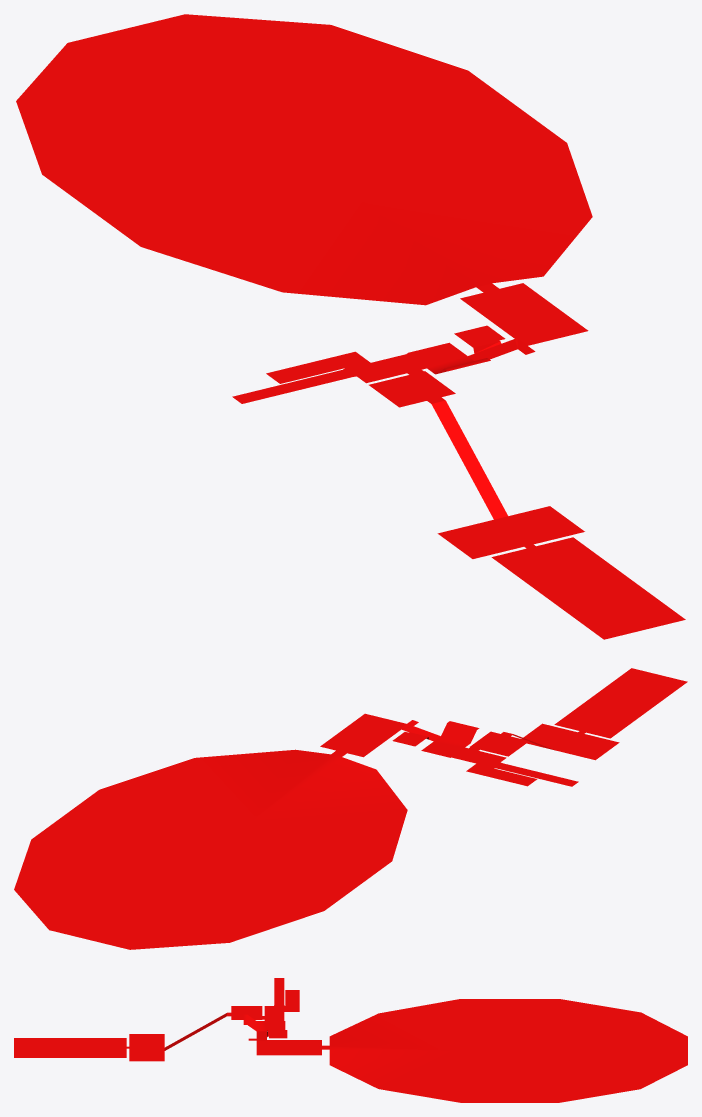
The model's file is navimesh_new.FBX.
The picture shows the model from 3 angles, top to bottom: view 1: azimuth 30°, elevation 25°; view 2: azimuth 150°, elevation 25°; view 3: azimuth 270°, elevation 25°; orthographic projection. The views are drawn at different scales.
Parts seen in each view (by area): view 1: navimesh; view 2: navimesh; view 3: navimesh.
Boxes of the visible parts, x1=… form: navimesh: x1=16, y1=14, x2=685, y2=639; navimesh: x1=14, y1=668, x2=687, y2=949; navimesh: x1=14, y1=978, x2=687, y2=1102.
Bounding box in the file's own units: 6210 × 958 × 14176.
